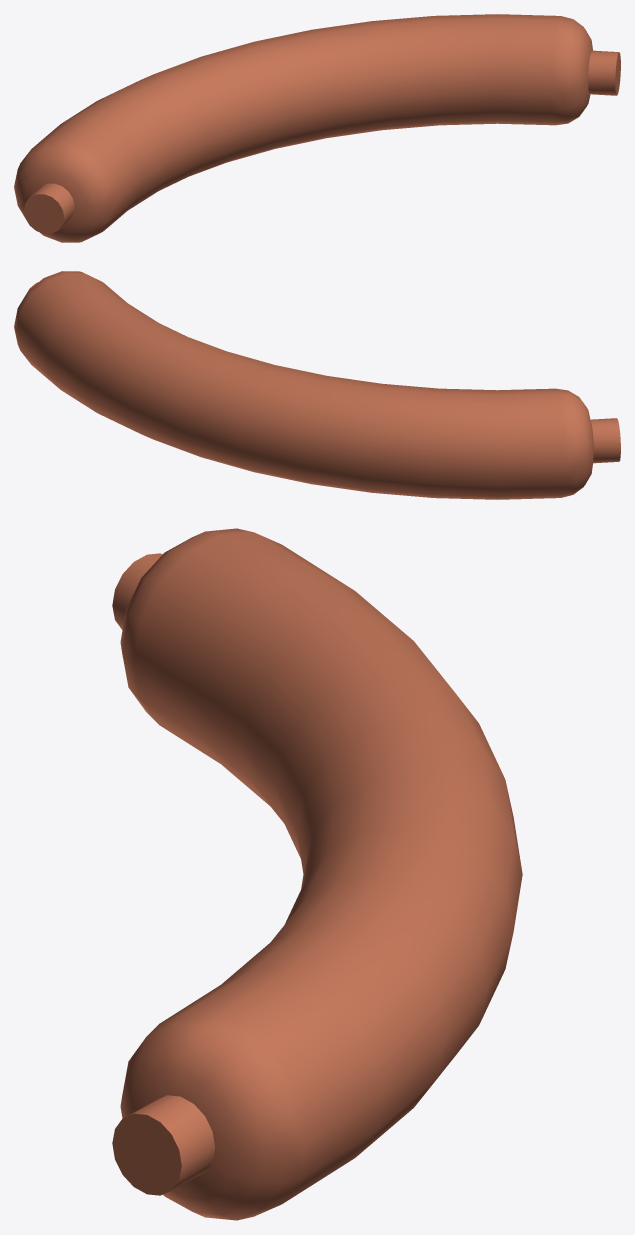
The model's file is saussage.dae.
3 renders of one model, top to bottom at view 1: azimuth 30°, elevation 25°; view 2: azimuth 150°, elevation 25°; view 3: azimuth 270°, elevation 25°, orthographic. The views are drawn at different scales.
Parts seen in each view (by area): view 1: Object; view 2: Object; view 3: Object.
Part boxes in pixels (x1=…): Object: x1=14, y1=14, x2=620, y2=242; Object: x1=14, y1=271, x2=620, y2=499; Object: x1=112, y1=528, x2=522, y2=1220.
Bounding box in the file's own units: 0.0201 × 0.00599 × 0.0032.
